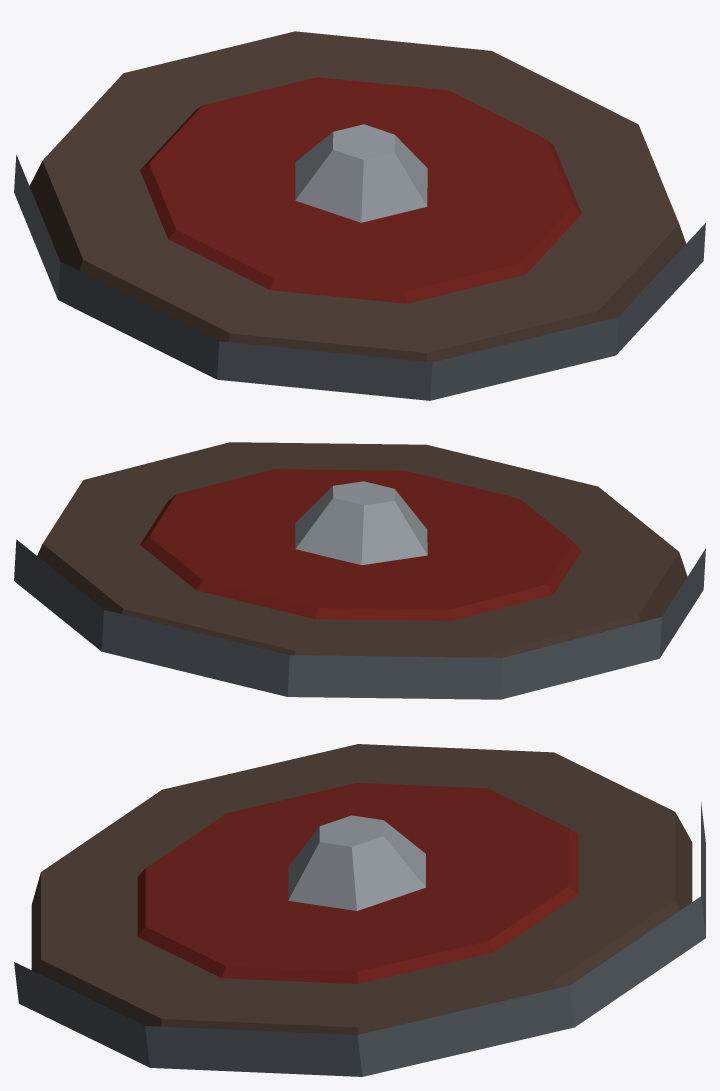
Rendered from dk_shield.glb.
3 renders of one model, top to bottom at view 1: azimuth 30°, elevation 25°; view 2: azimuth 150°, elevation 25°; view 3: azimuth 270°, elevation 25°, orthographic. The views are drawn at different scales.
Parts seen in each view (by area): view 1: dk_shield; view 2: dk_shield; view 3: dk_shield.
Boxes of the visible parts, box(x1,y1,x2,y2) form: dk_shield: box(14, 31, 705, 400); dk_shield: box(14, 442, 705, 699); dk_shield: box(14, 744, 705, 1076).
Bounding box in the file's own units: 1.56 × 0.3036 × 1.49.
Materials: 1 (1 with a texture image).
